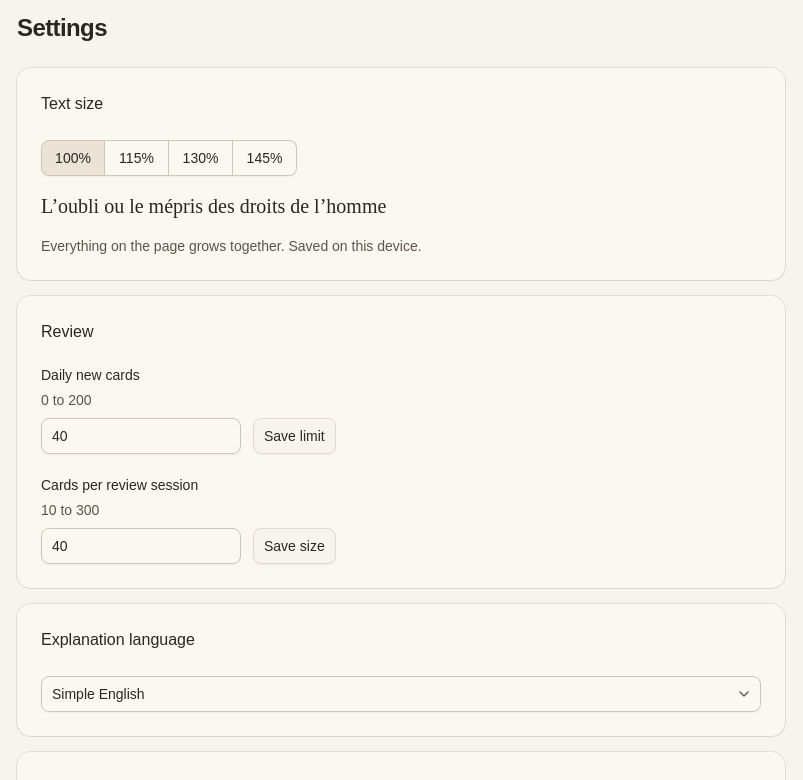
Test: Task B — Study word card, selection and steps › shows Simple English by default in Settings and persists the Chinese selection
Click the dropdown named "Explanation language" at (98, 694), box [41,676,761,712]
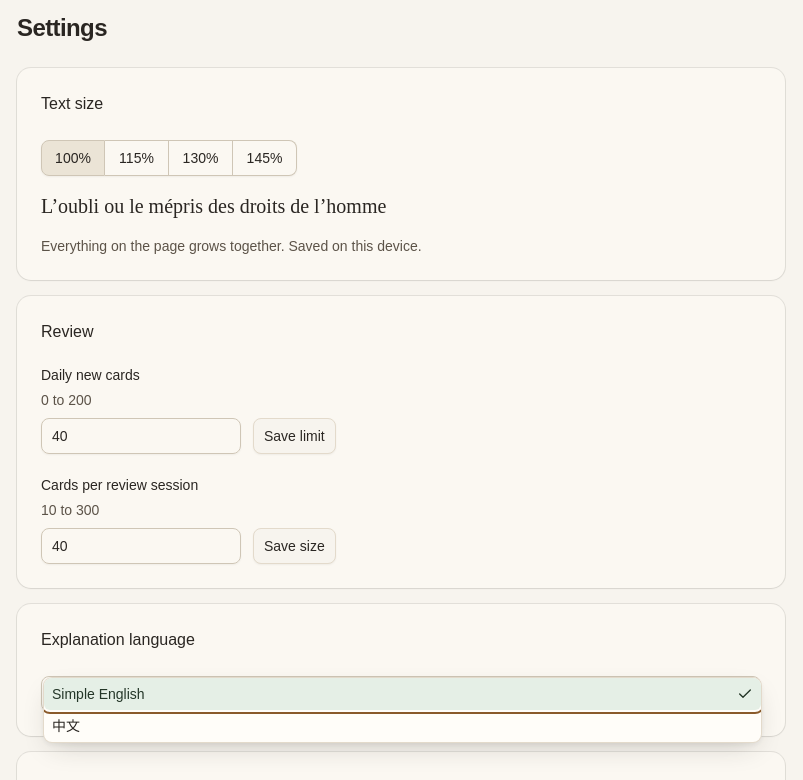
Click the option "中文" at (66, 726), box [52,718,80,734]
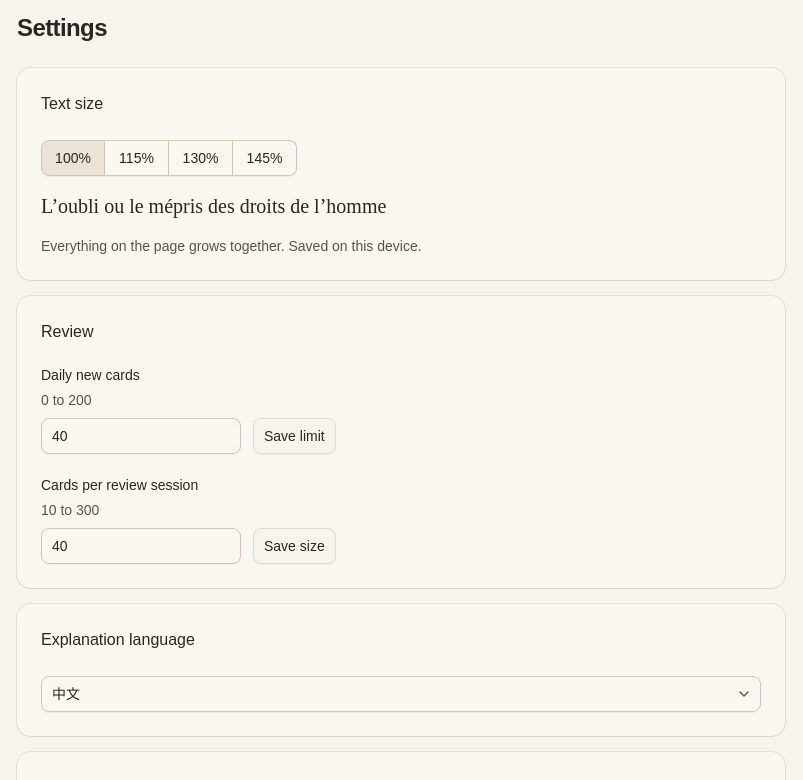
Result: the dropdown named "Explanation language" reads "中文" at [41,676,761,712]
